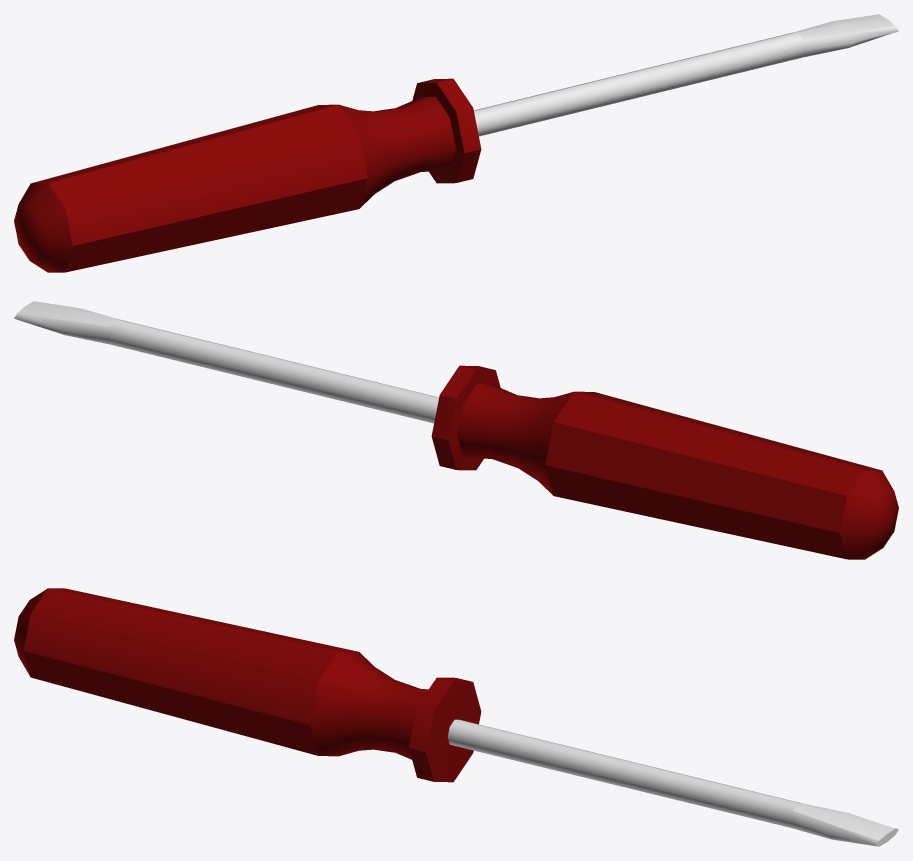
Rendered from Screwdriver.fbx.
3 views of the same model, one above another, from view 1: azimuth 30°, elevation 25°; view 2: azimuth 150°, elevation 25°; view 3: azimuth 330°, elevation 25° (orthographic).
Parts seen in each view (by area): view 1: pCylinder2; view 2: pCylinder2; view 3: pCylinder2.
Boxes of the visible parts, <box> form: pCylinder2: <box>14,14,898,272</box>; pCylinder2: <box>14,301,898,559</box>; pCylinder2: <box>14,588,898,846</box>.
Bounding box in the file's own units: 0.3154 × 0.0366 × 0.0366.
